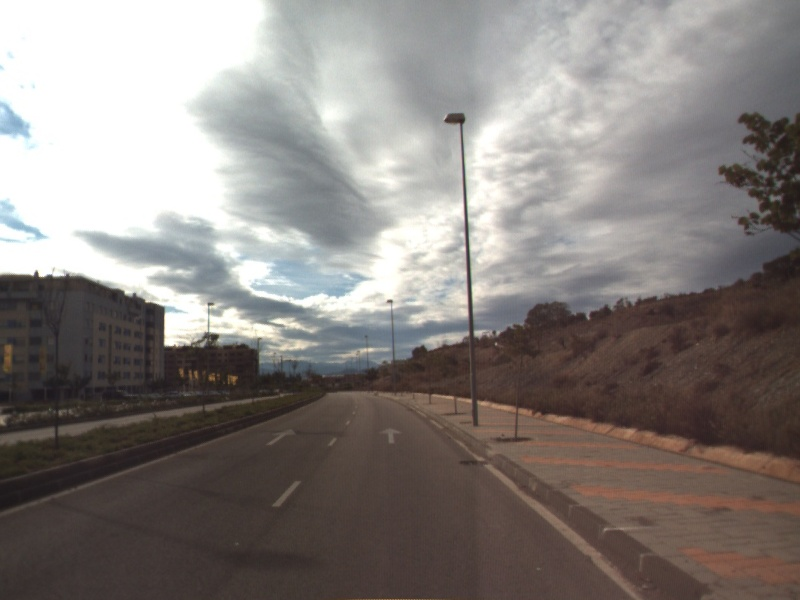STRAIGHT: (264, 426, 298, 447), (377, 426, 405, 445)
